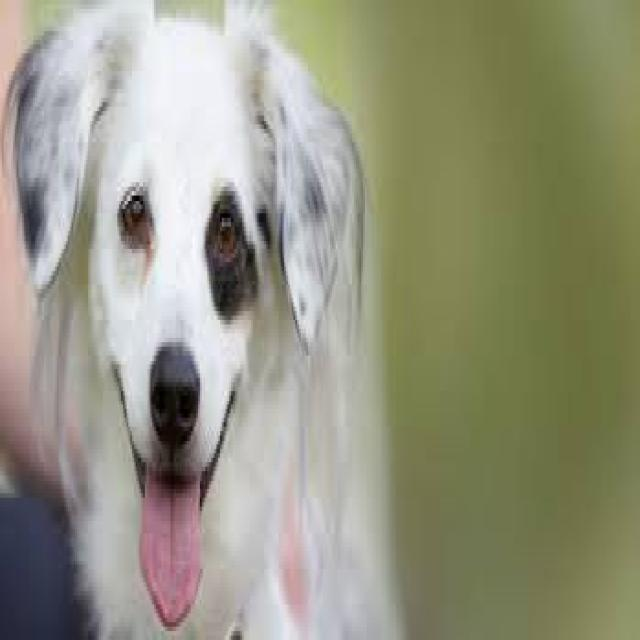Dog: (0, 6, 375, 638)
